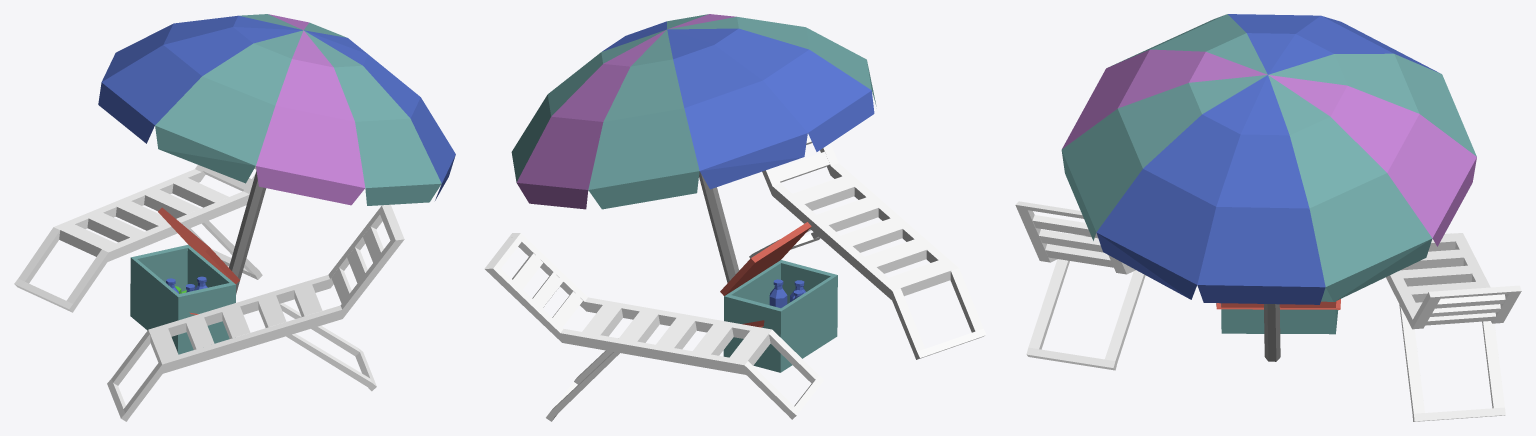
The model's file is beach.glb.
The picture shows the model from 3 angles, left to right: view 1: azimuth 30°, elevation 25°; view 2: azimuth 150°, elevation 25°; view 3: azimuth 270°, elevation 25°; orthographic projection. The views are drawn at different scales.
Bounding box in the file's own units: 17.78 × 14.3 × 18.91.
